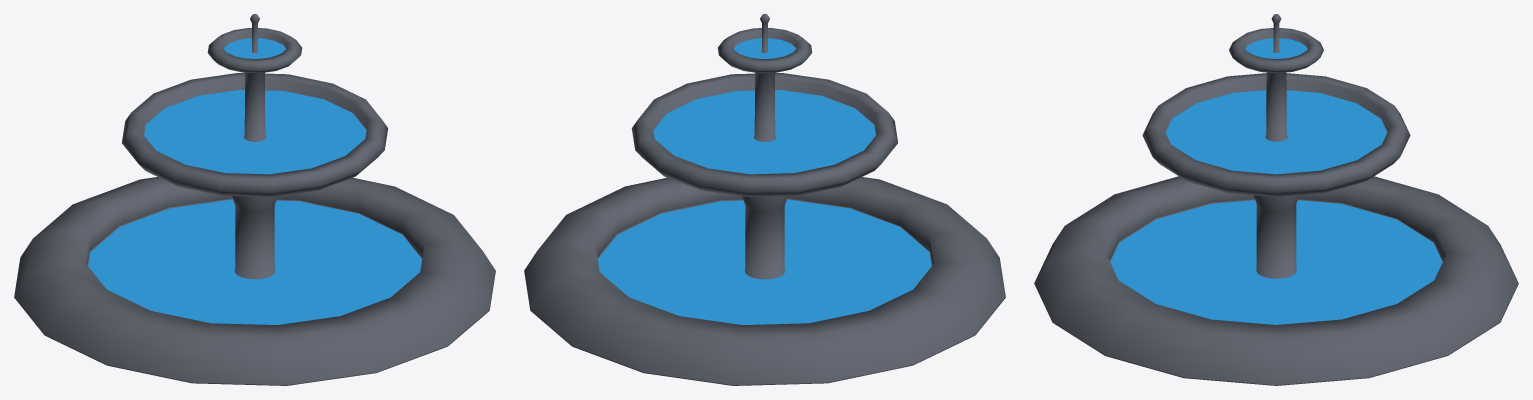
Rendered from fountain-new.fbx.
3 views of the same model, side by side, from view 1: azimuth 30°, elevation 25°; view 2: azimuth 150°, elevation 25°; view 3: azimuth 270°, elevation 25° (orthographic).
Visible parts, largest first — view 1: Circle; view 2: Circle; view 3: Circle.
Boxes of the visible parts, x1=… form: Circle: x1=14, y1=14, x2=495, y2=385; Circle: x1=524, y1=14, x2=1005, y2=385; Circle: x1=1034, y1=14, x2=1518, y2=385.
Bounding box in the file's own units: 474 × 290 × 474.
